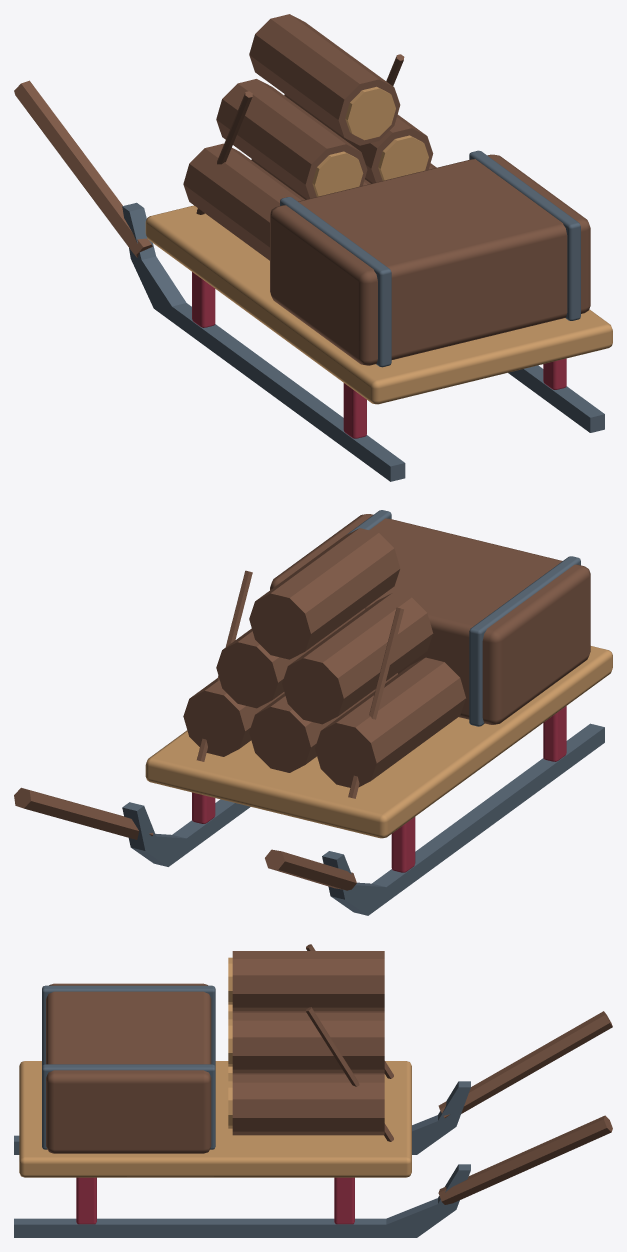
The model's file is alpine-snow-village-firewood-cargo-sledge-5ebe4fee__19820.glb.
The picture shows the model from 3 angles, top to bottom: view 1: azimuth 30°, elevation 25°; view 2: azimuth 150°, elevation 25°; view 3: azimuth 270°, elevation 25°; orthographic projection. The views are drawn at different scales.
Visible parts, largest first — view 1: firewood-cargo-sledge-wood, firewood-cargo-sledge-oak, firewood-cargo-sledge-iron, firewood-cargo-sledge-berry; view 2: firewood-cargo-sledge-wood, firewood-cargo-sledge-oak, firewood-cargo-sledge-iron, firewood-cargo-sledge-berry; view 3: firewood-cargo-sledge-wood, firewood-cargo-sledge-oak, firewood-cargo-sledge-iron, firewood-cargo-sledge-berry.
Boxes of the visible parts, <box> form: firewood-cargo-sledge-wood: <box>14,14,590,365</box>; firewood-cargo-sledge-oak: <box>145,86,612,404</box>; firewood-cargo-sledge-iron: <box>122,150,604,481</box>; firewood-cargo-sledge-berry: <box>192,272,566,438</box>; firewood-cargo-sledge-wood: <box>14,514,590,890</box>; firewood-cargo-sledge-oak: <box>145,646,612,838</box>; firewood-cargo-sledge-iron: <box>122,510,604,915</box>; firewood-cargo-sledge-berry: <box>192,706,566,872</box>; firewood-cargo-sledge-wood: <box>46,944,612,1204</box>; firewood-cargo-sledge-oak: <box>19,957,411,1177</box>; firewood-cargo-sledge-iron: <box>14,985,470,1237</box>; firewood-cargo-sledge-berry: <box>76,1177,354,1224</box>.
Bounding box in the file's own units: 1.29 × 1.27 × 2.9.
